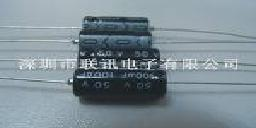Electrolytic-capacitor: (39, 67, 256, 100), (80, 14, 151, 36), (73, 33, 160, 50)
